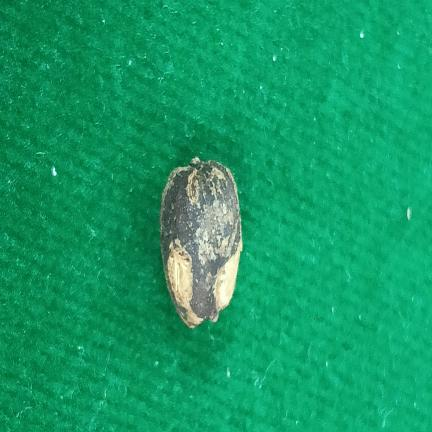full-black: (159, 158, 242, 328)
